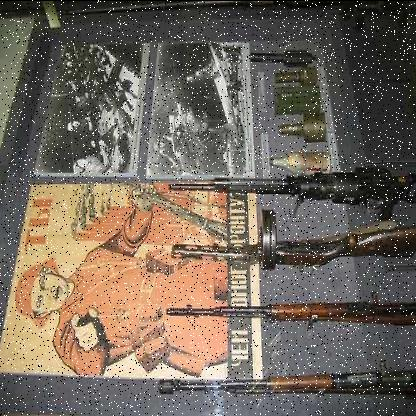rifle: (147, 341, 415, 411), (161, 146, 415, 211), (150, 284, 414, 328), (165, 224, 415, 266)
